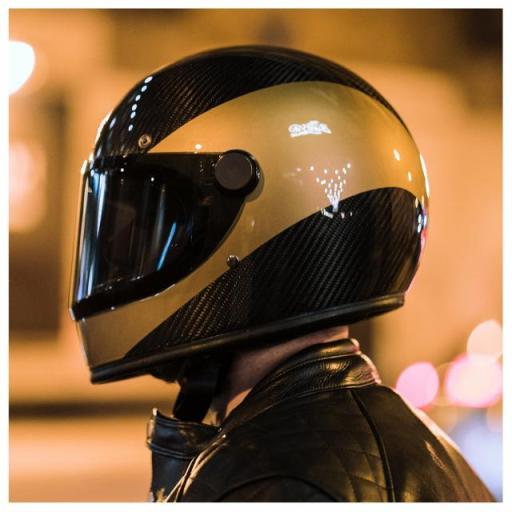Helmet: (69, 46, 437, 384)
